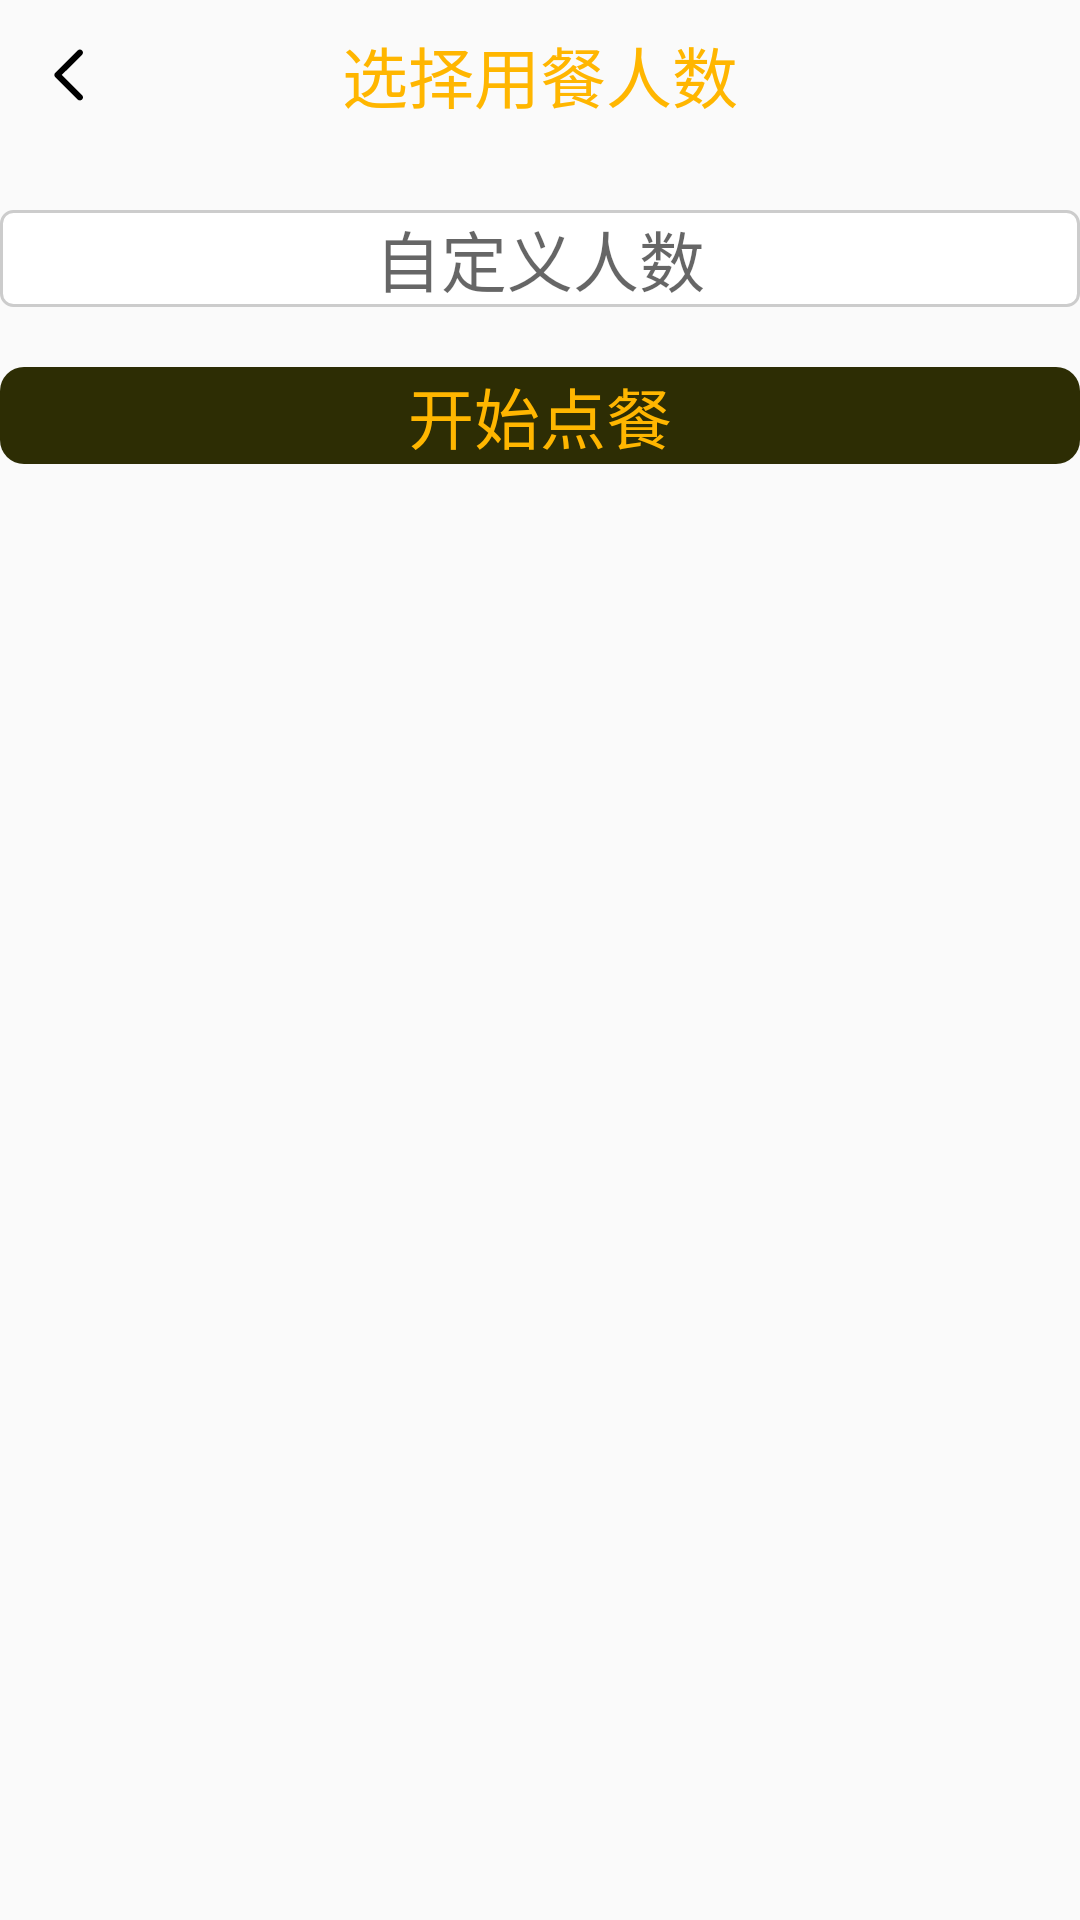

Screen size 1080*1920. Icon name, then its box in pixels as (x1,y1,x2,y2):
back: (54,49,83,101)
